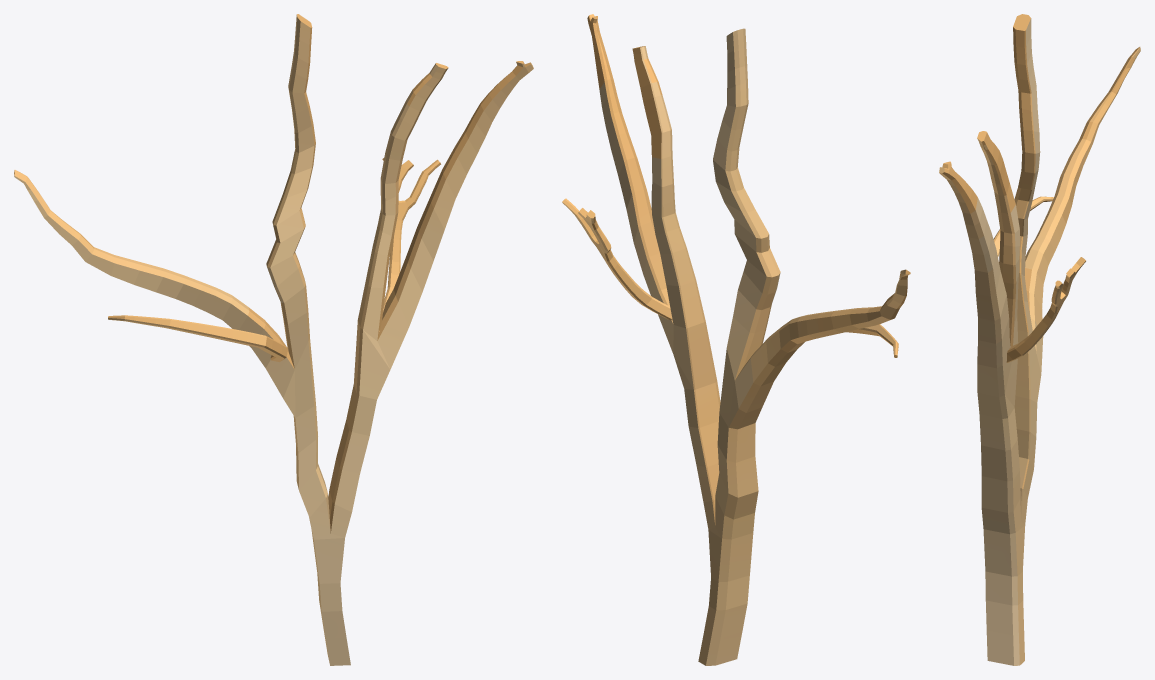
Rendered from Dead_Tree.fbx.
The picture shows the model from 3 angles, left to right: view 1: azimuth 30°, elevation 25°; view 2: azimuth 150°, elevation 25°; view 3: azimuth 270°, elevation 25°; orthographic projection. The views are drawn at different scales.
Parts seen in each view (by area): view 1: Dead_Tree; view 2: Dead_Tree; view 3: Dead_Tree.
Part boxes in pixels (<box>): Dead_Tree: <box>14,14,533,665</box>; Dead_Tree: <box>562,14,910,665</box>; Dead_Tree: <box>939,14,1140,665</box>.
Size of the model in its own units: 1.78 by 2.6 by 0.7546.
